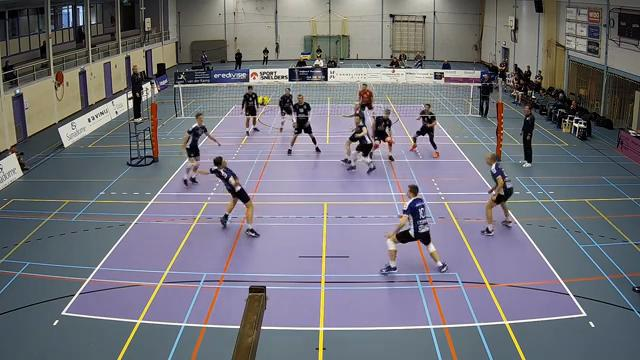difesa: (188, 156, 264, 240)
